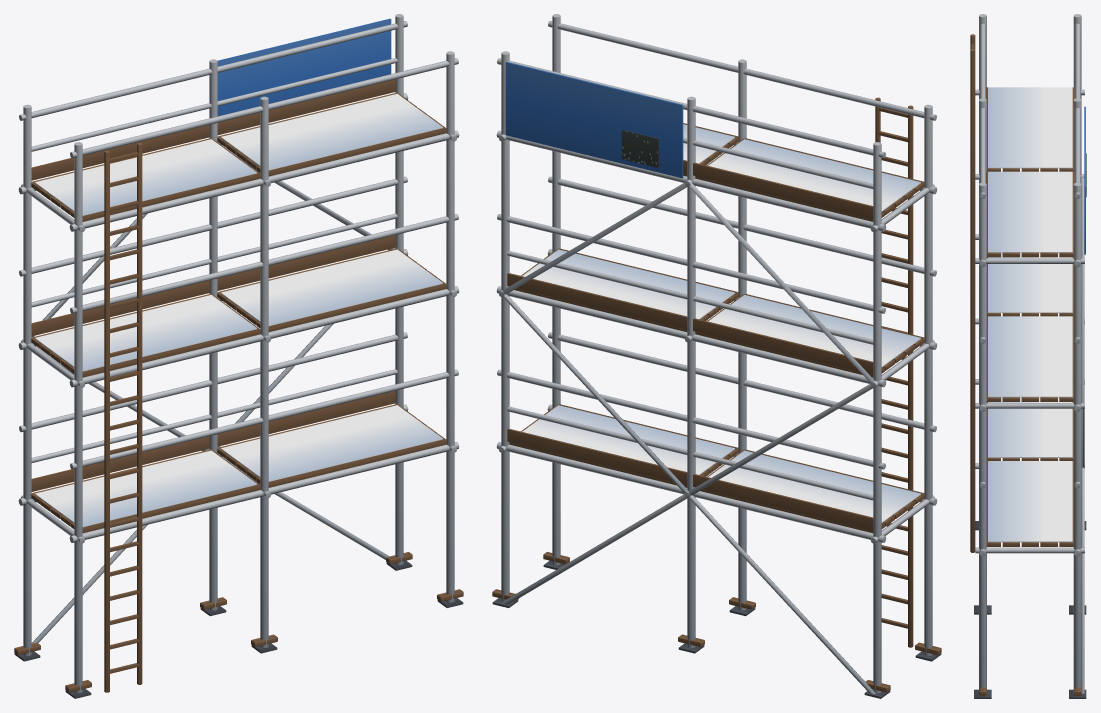
File: ck_scaffolding.fbx
3 renders of one model, left to right at view 1: azimuth 30°, elevation 25°; view 2: azimuth 150°, elevation 25°; view 3: azimuth 270°, elevation 25°, orthographic. The views are drawn at different scales.
Visible parts, largest first — view 1: ck_scaffolding; view 2: ck_scaffolding; view 3: ck_scaffolding.
Part boxes in pixels (left/top/right/bottom): ck_scaffolding: left=14, top=14, right=463, bottom=698; ck_scaffolding: left=492, top=14, right=941, bottom=698; ck_scaffolding: left=970, top=14, right=1086, bottom=698.
Bounding box in the file's own units: 1702 × 2270 × 466.
